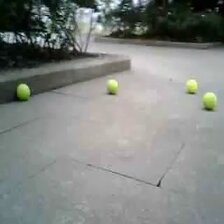tennis: (201, 92, 217, 108), (16, 83, 30, 100), (106, 79, 118, 94), (187, 79, 198, 92)
